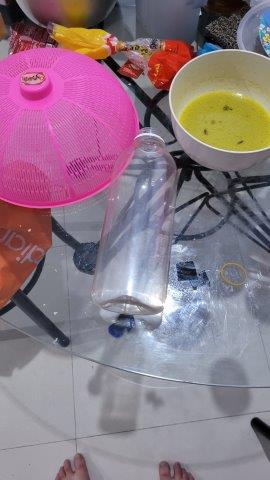botolplastik: (91, 125, 178, 332)
